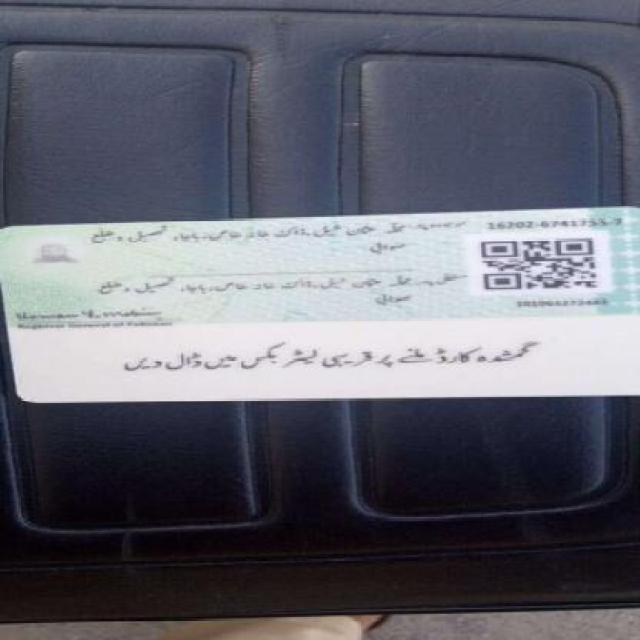Back: (6, 206, 639, 406)
